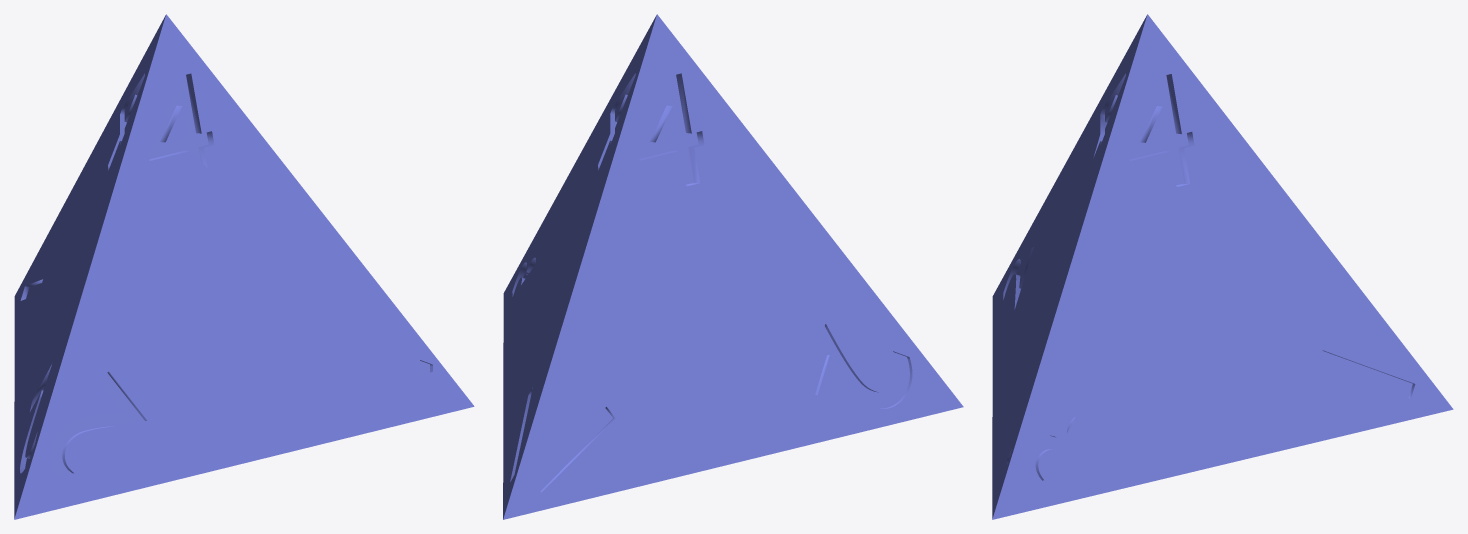
The picture shows the model from 3 angles, left to right: view 1: azimuth 30°, elevation 25°; view 2: azimuth 150°, elevation 25°; view 3: azimuth 270°, elevation 25°; orthographic projection.
Parts seen in each view (by area): view 1: Solid; view 2: Solid; view 3: Solid.
Part boxes in pixels (<box>): Solid: <box>14,14,474,519</box>; Solid: <box>503,14,963,519</box>; Solid: <box>992,14,1453,519</box>.
Bounding box in the file's own units: 163 × 134 × 142.
